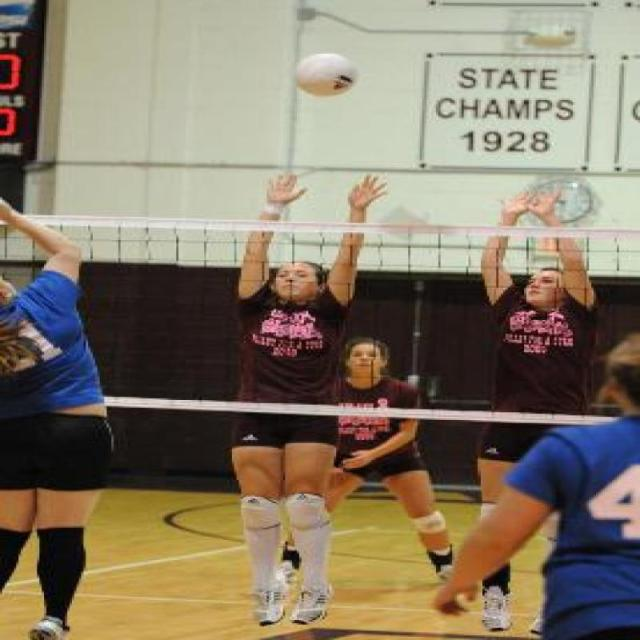volleyball: (294, 54, 357, 96)
